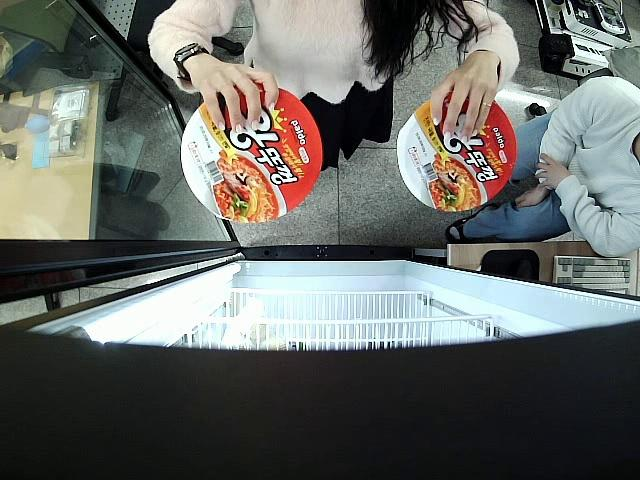00_hand: (191, 60, 279, 134), (430, 63, 497, 140), (534, 153, 568, 190)
10_wangTtukkeong: (181, 83, 323, 223), (397, 89, 517, 211)
